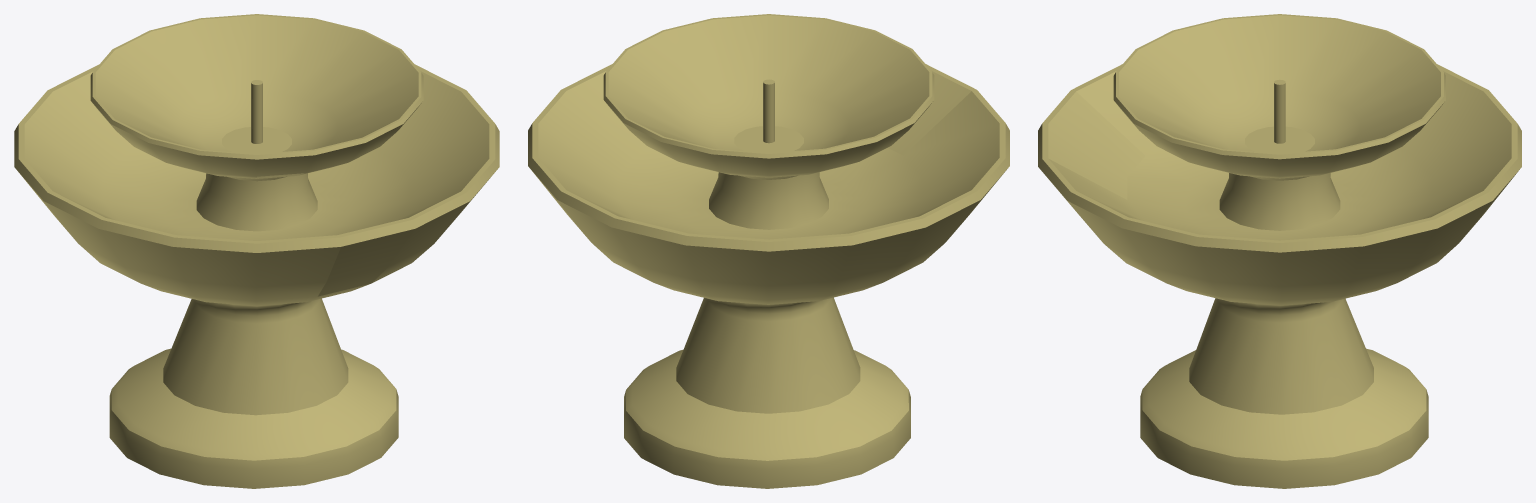
File: kus_havuzu.FBX
3 views of the same model, side by side, from view 1: azimuth 30°, elevation 25°; view 2: azimuth 150°, elevation 25°; view 3: azimuth 270°, elevation 25° (orthographic).
Parts seen in each view (by area): view 1: kus_havuzu; view 2: kus_havuzu; view 3: kus_havuzu.
Boxes of the visible parts, x1,y1,x2,y2 form: kus_havuzu: (14,14,499,488); kus_havuzu: (528,14,1009,488); kus_havuzu: (1038,14,1521,488).
Size of the model in its own units: 47.31 by 36.66 by 46.59.
